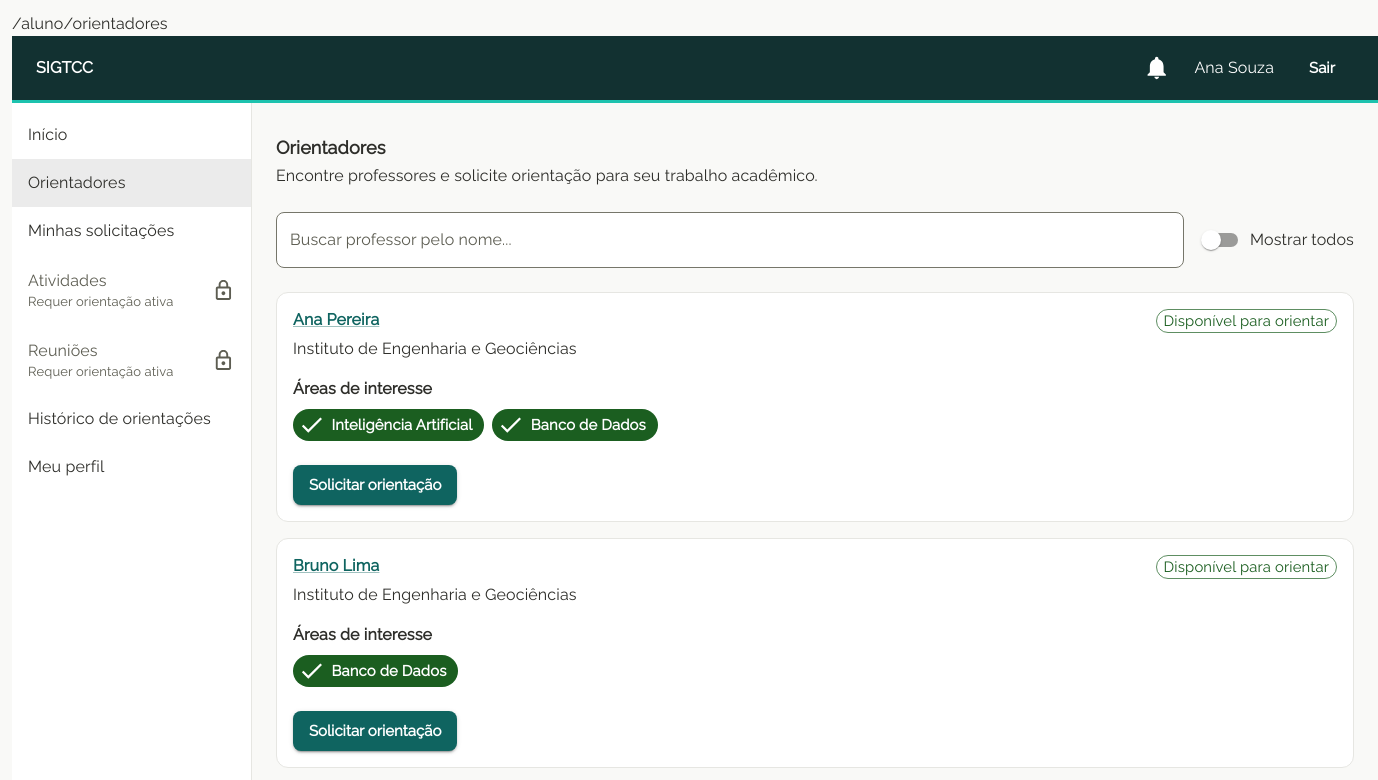
it: AdvisorsPage: filtro por nome › manda o termo ao servidor, aparado, só depois da pausa na digitação
Check: the link "Ana Pereira" is shown, box [293, 310, 379, 329]
Type "  bru  " into the field labelled "Buscar professor pelo nome..." at (730, 240), box [276, 212, 1184, 268]
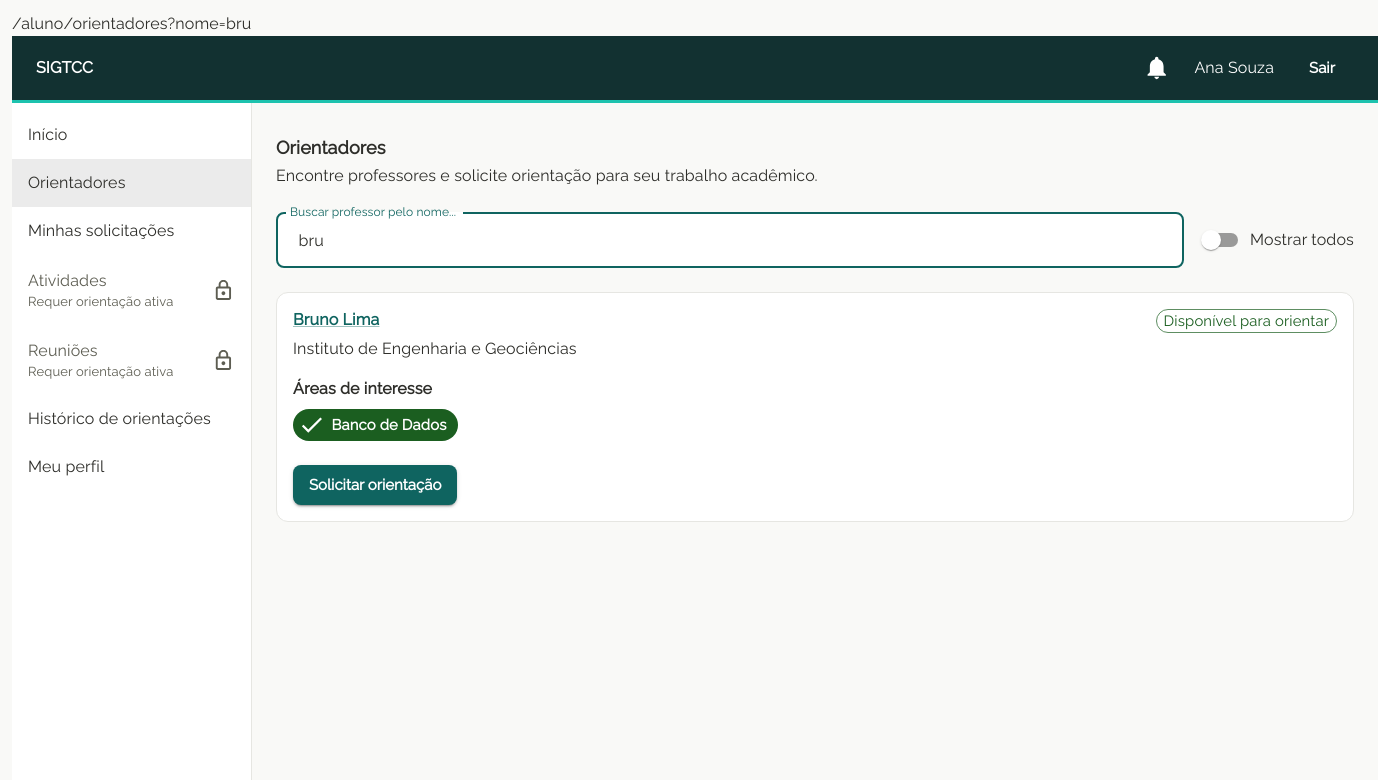
Check: the link "Bruno Lima" is shown, box [293, 310, 380, 329]
Check: the link "Ana Pereira" is gone
